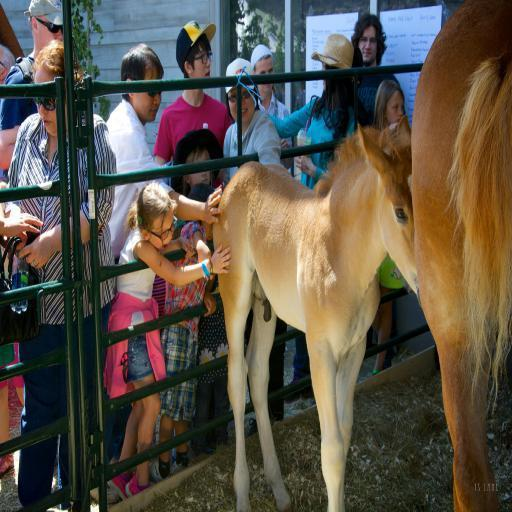horse: (210, 112, 424, 512), (411, 0, 512, 512)
